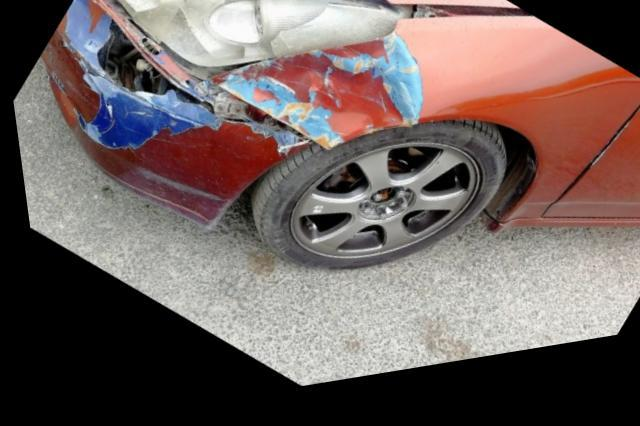dent: (206, 50, 409, 161)
lamp broken: (108, 0, 390, 79)
